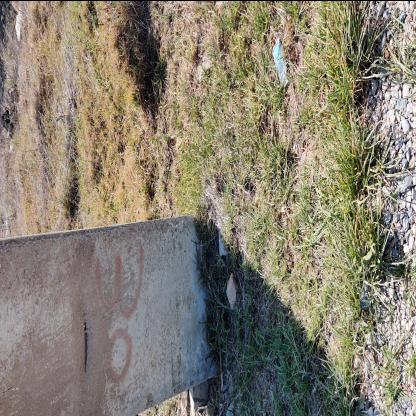plastik: (272, 35, 289, 86)
